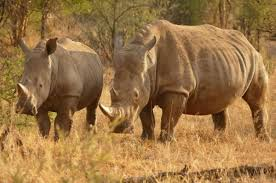Rhinoceros: (9, 32, 103, 142)
